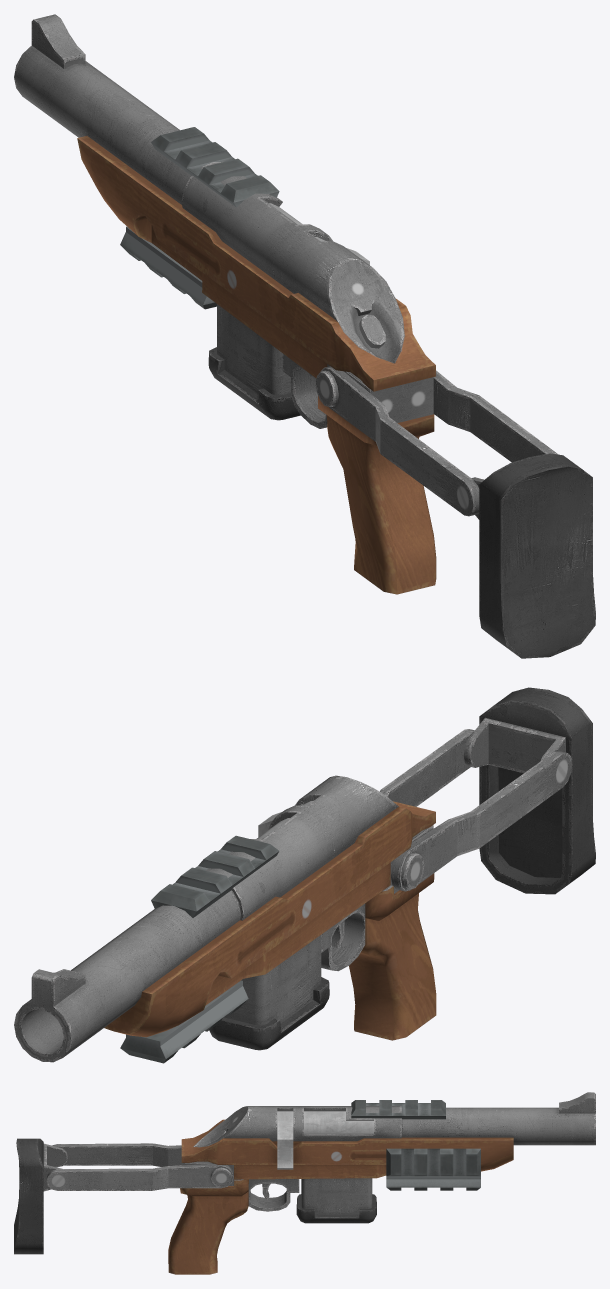
Rendered from IG_Gun_TOZ106.fbx.
3 renders of one model, top to bottom at view 1: azimuth 30°, elevation 25°; view 2: azimuth 150°, elevation 25°; view 3: azimuth 270°, elevation 25°, orthographic. The views are drawn at different scales.
Visible parts, largest first — view 1: Pfb_WPN_TOZ106, ShowIf_Scope, ShowIf_Grip; view 2: Pfb_WPN_TOZ106, ShowIf_Scope, ShowIf_Grip; view 3: Pfb_WPN_TOZ106, ShowIf_Tec, ShowIf_Scope, ShowIf_Grip.
Part boxes in pixels (x1,y1,x2,y2): Pfb_WPN_TOZ106: (14, 14, 595, 658); ShowIf_Scope: (151, 127, 279, 207); ShowIf_Grip: (120, 226, 216, 309); Pfb_WPN_TOZ106: (14, 687, 595, 1062); ShowIf_Scope: (151, 835, 279, 917); ShowIf_Grip: (120, 980, 248, 1063); Pfb_WPN_TOZ106: (14, 1092, 595, 1274); ShowIf_Tec: (386, 1148, 480, 1176); ShowIf_Scope: (351, 1100, 445, 1119); ShowIf_Grip: (386, 1176, 480, 1190).
Size of the model in its own units: 0.1238 by 0.335 by 1.03.
